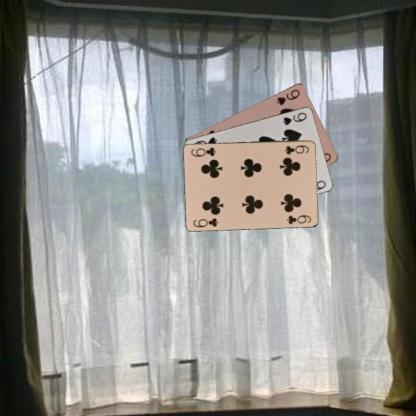6c: (191, 215, 220, 229), (283, 142, 310, 156)
9s: (273, 87, 301, 106), (280, 110, 308, 126)
